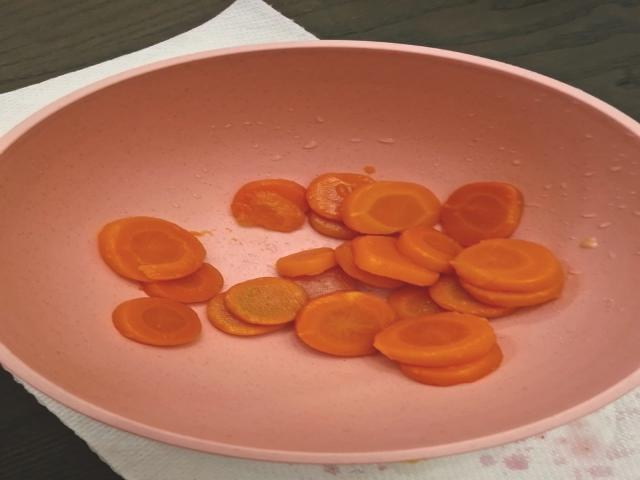kichen waste: (96, 173, 564, 387)
